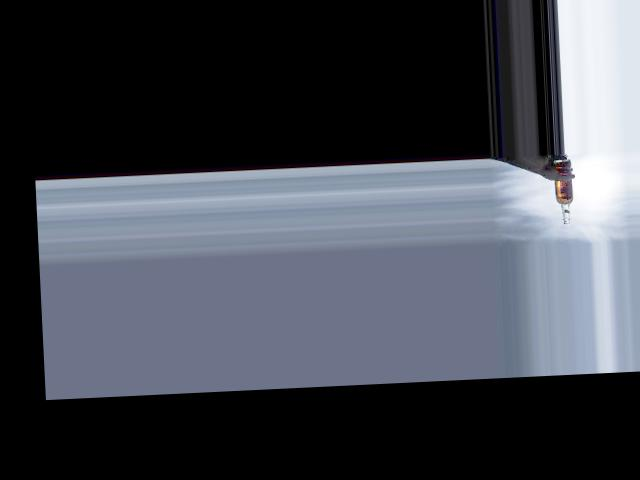beer: (552, 159, 573, 224)
